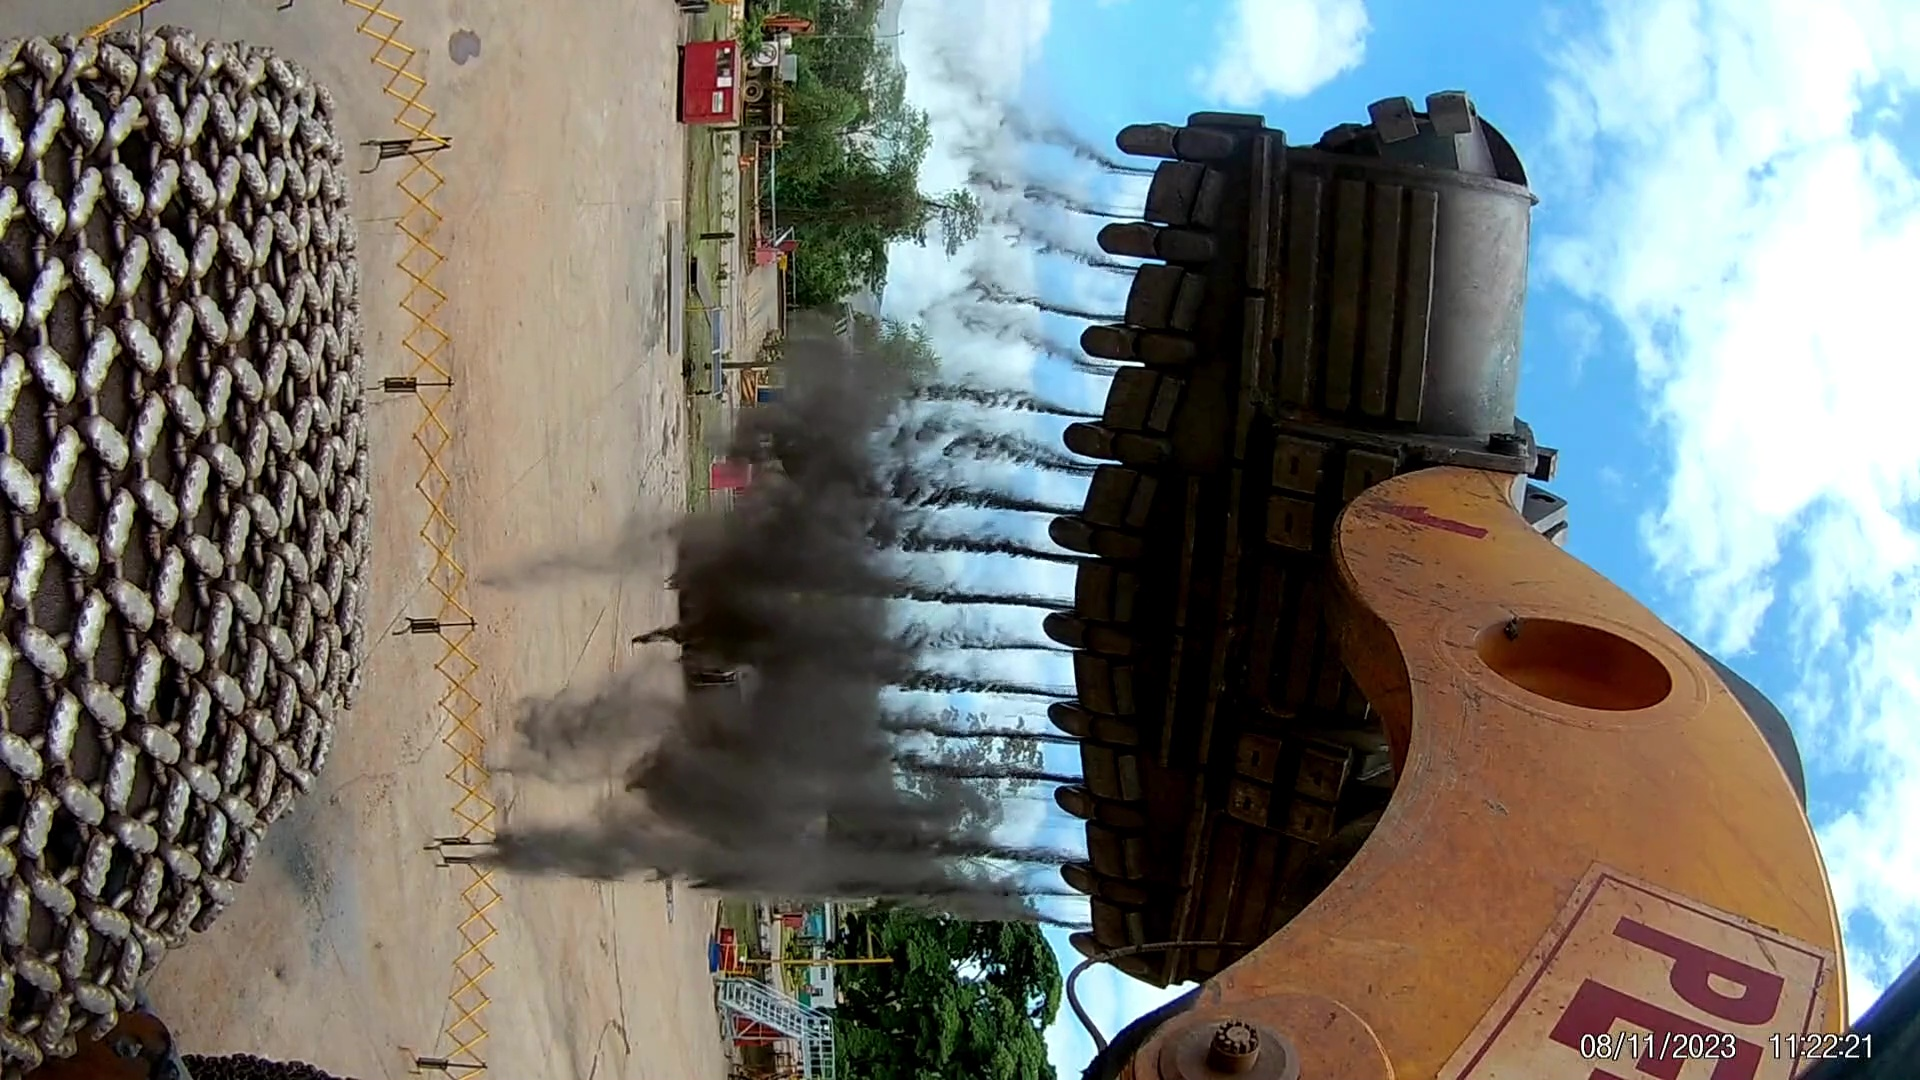FPS: (1025, 680, 1135, 767), (1113, 115, 1244, 181), (1080, 204, 1207, 272), (1023, 853, 1142, 916), (1054, 331, 1207, 375), (1048, 767, 1131, 829), (1015, 510, 1135, 553), (1058, 410, 1158, 458), (1042, 926, 1130, 969), (1047, 618, 1127, 657)
